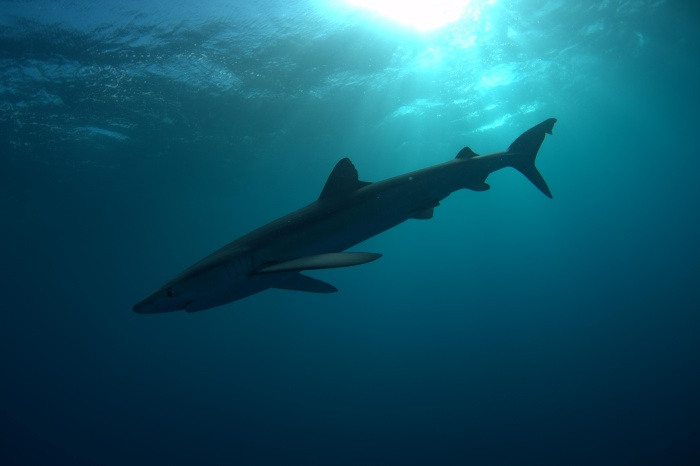Azul: (77, 109, 560, 326)
